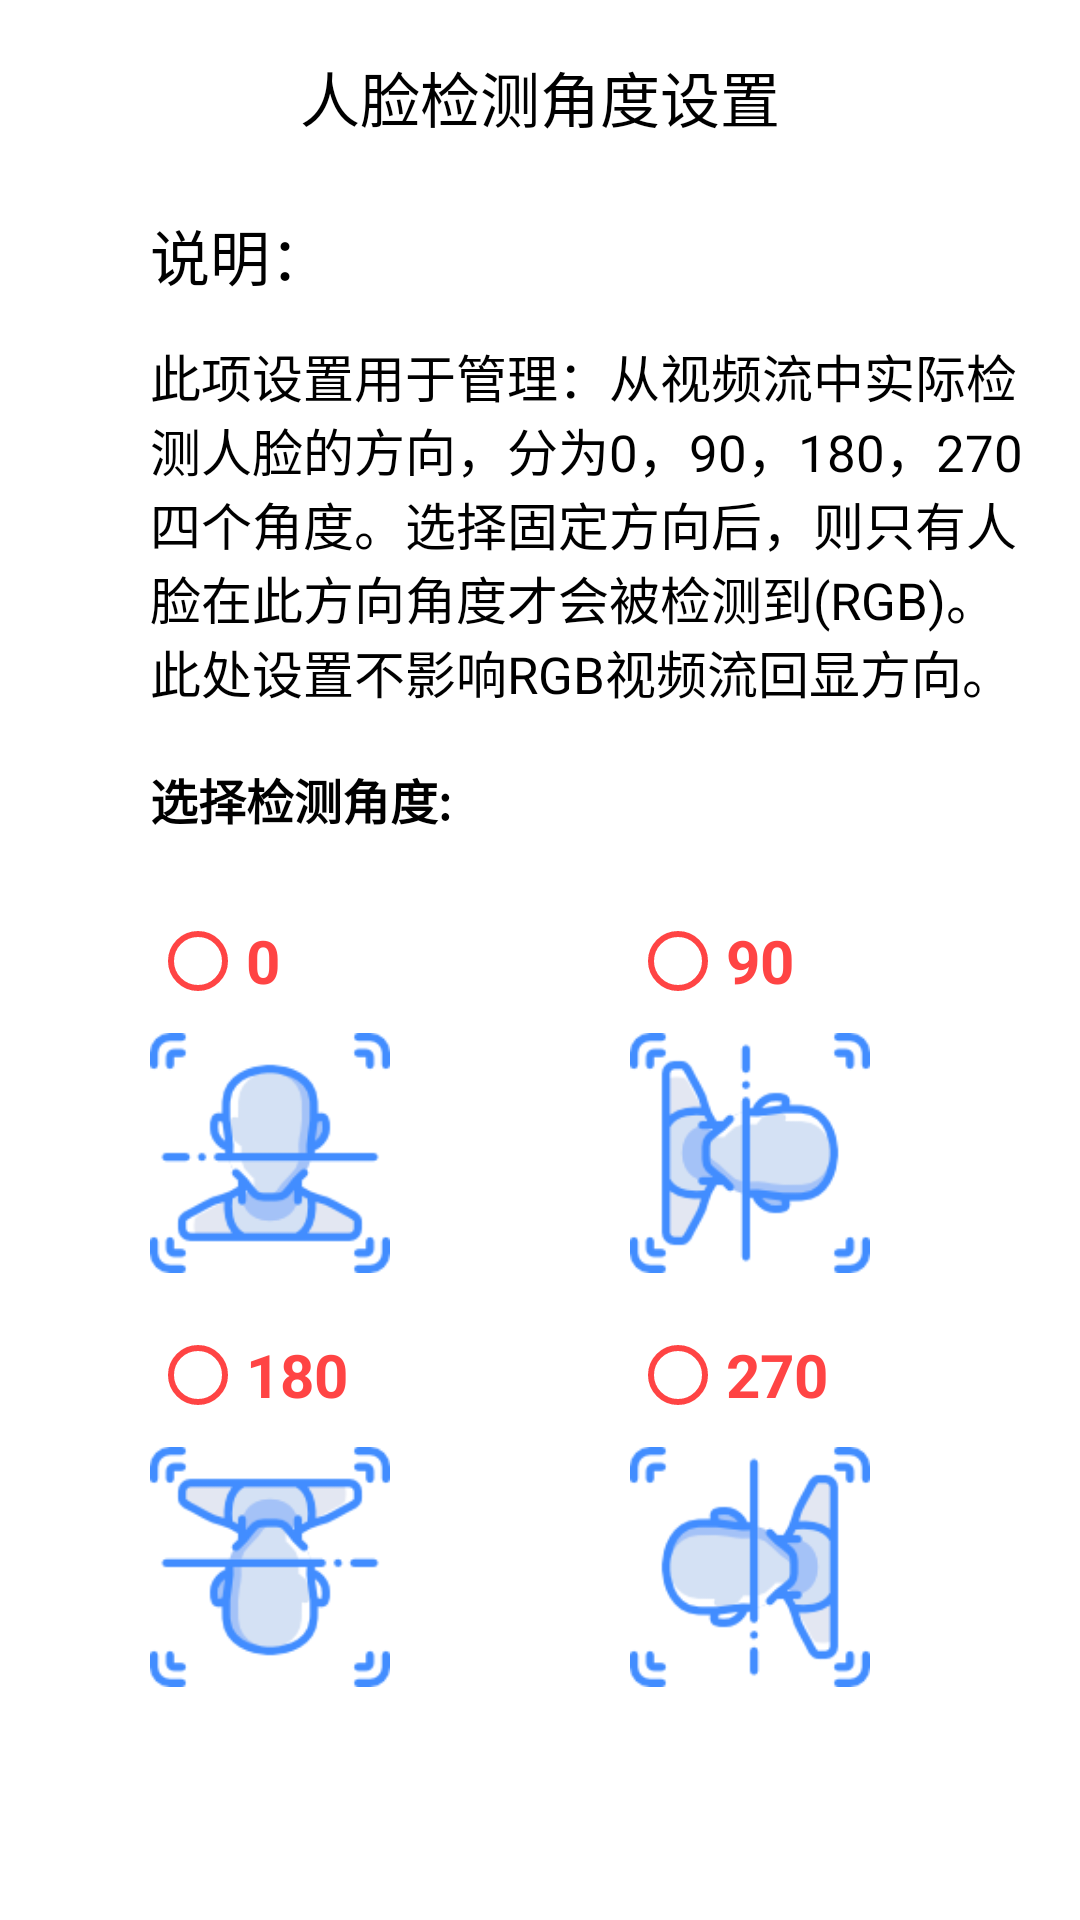

Icon click points for this 1080px×1920px phone screenshot, format [x,y]:
track angle: [270,1153]
